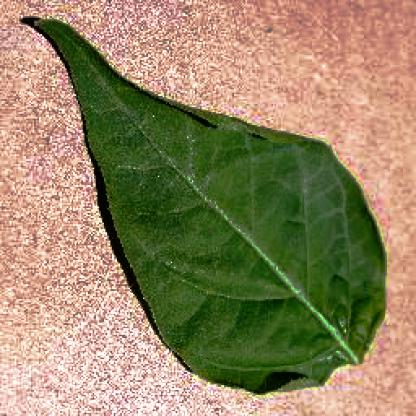Healthy: (29, 15, 385, 393)
